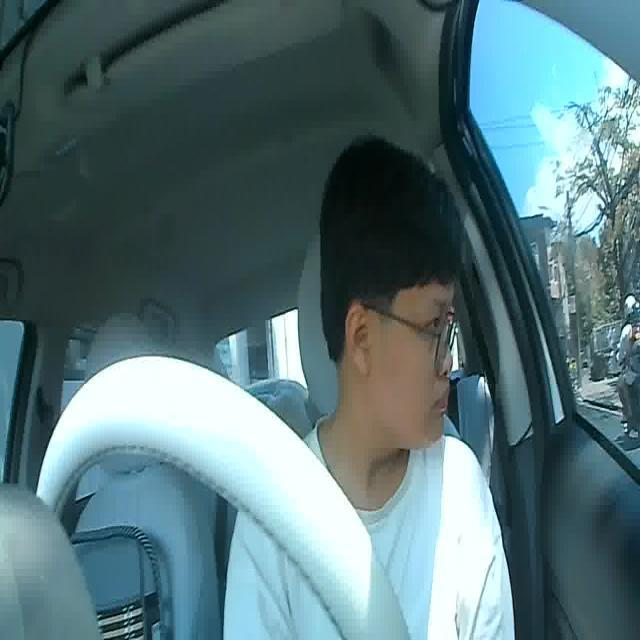Eye-Open: (419, 310, 448, 334)
Inattentive: (314, 135, 457, 450)
Normal: (434, 384, 449, 413)
